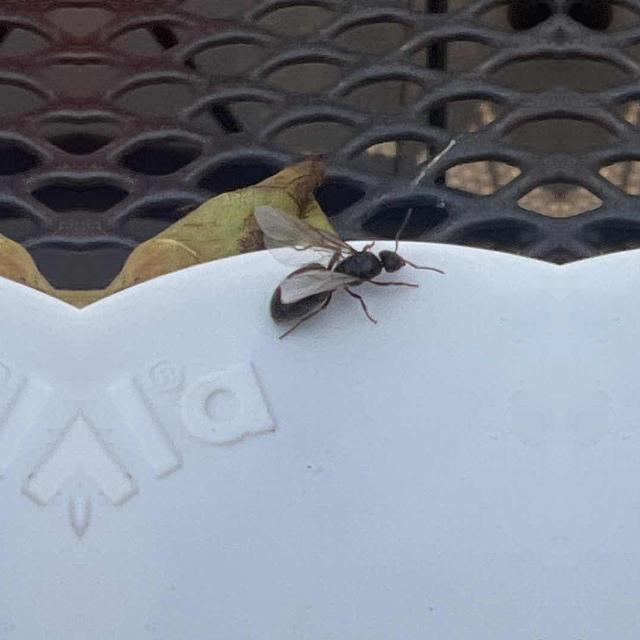Lasius: (250, 227, 414, 351)
